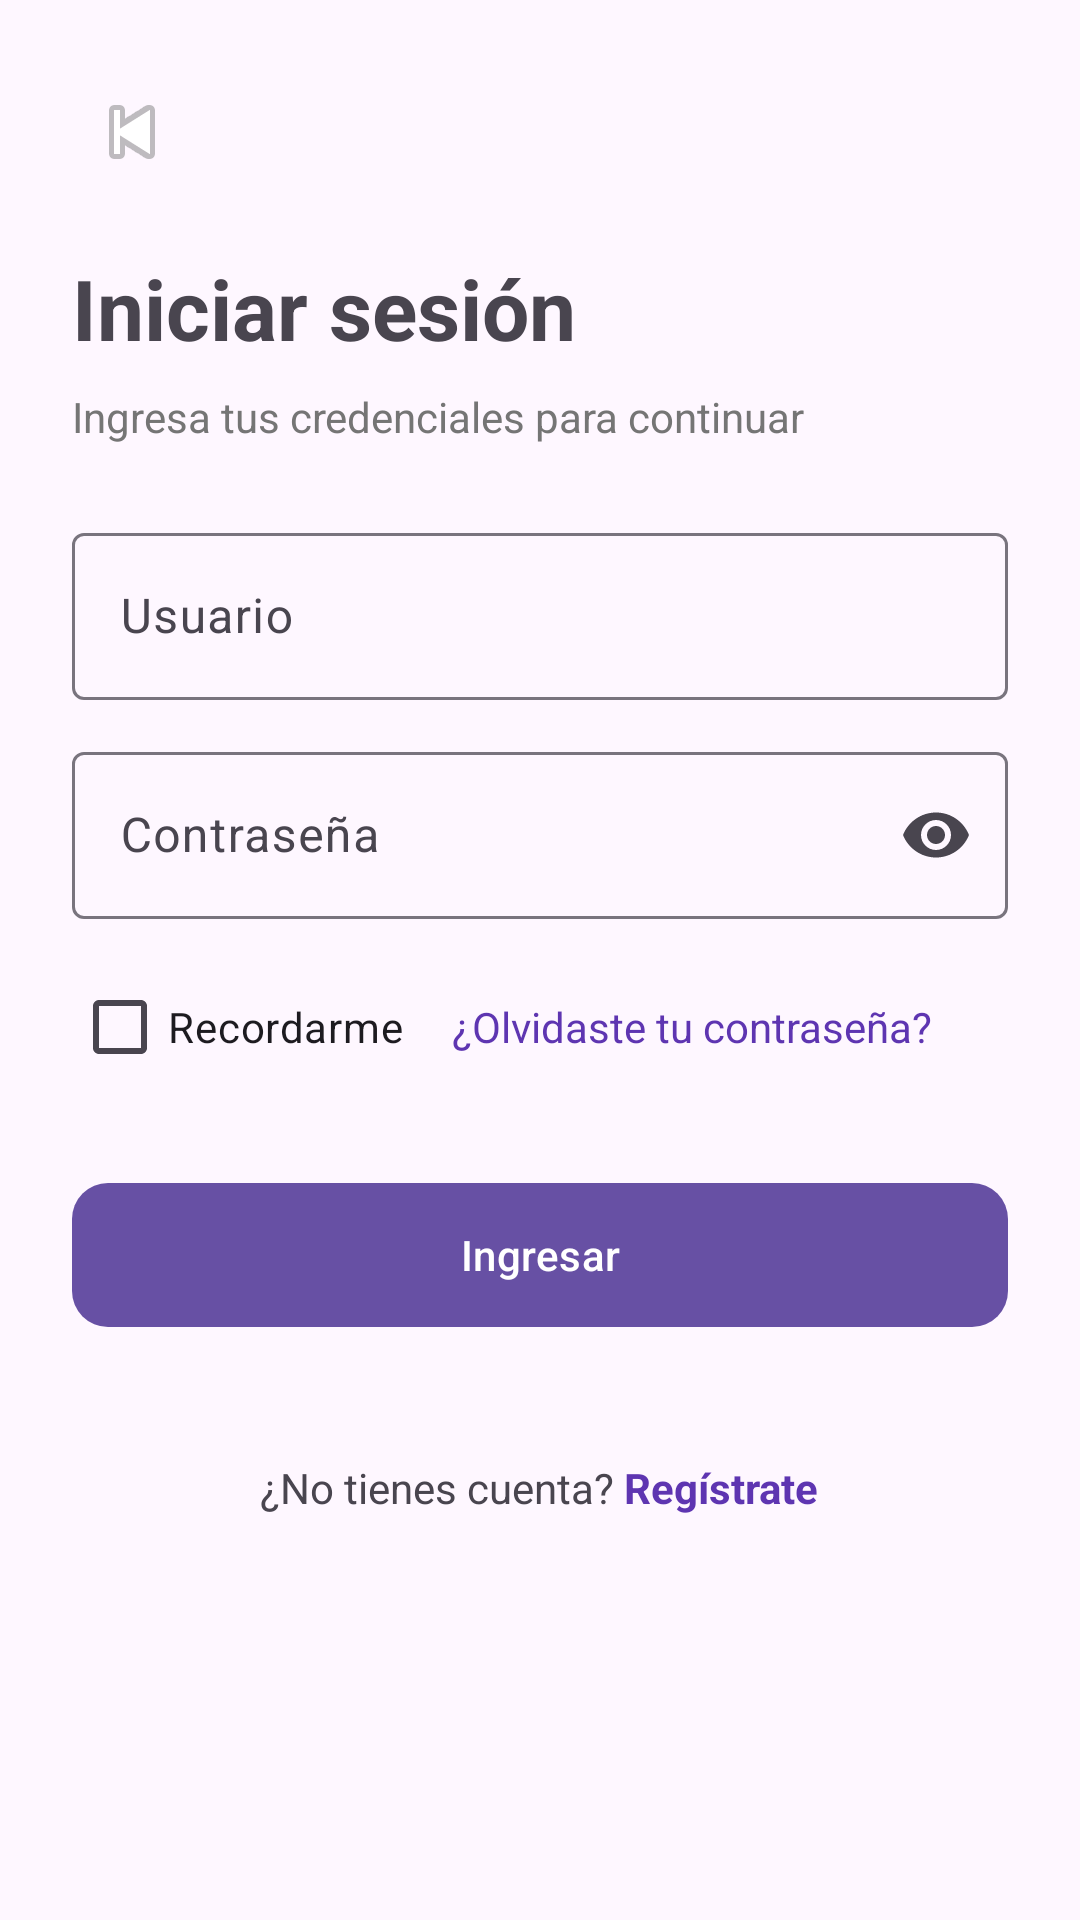

Named icons in this screenshot (1080px x 1920px) and their centers, [x,y]:
previous: [132,132]
